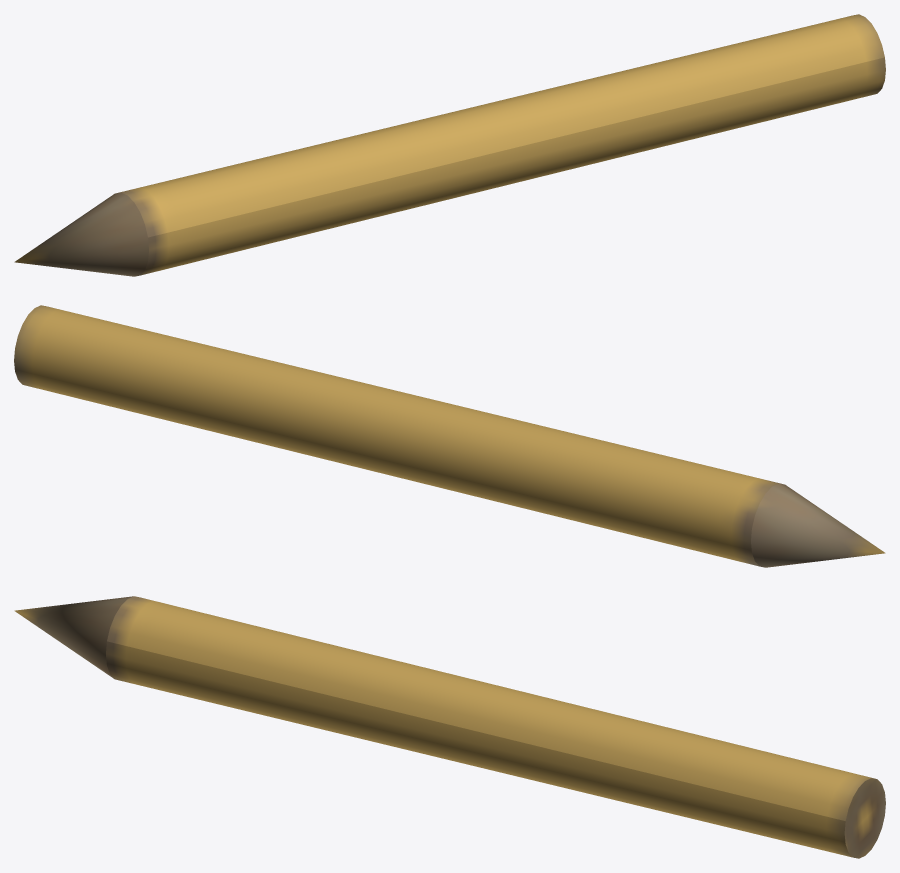
The model's file is SM_Farm_Pencil_06.fbx.
3 renders of one model, top to bottom at view 1: azimuth 30°, elevation 25°; view 2: azimuth 150°, elevation 25°; view 3: azimuth 330°, elevation 25°, orthographic.
Visible parts, largest first — view 1: SM_Farm_Pencil_06_LOD0; view 2: SM_Farm_Pencil_06_LOD0; view 3: SM_Farm_Pencil_06_LOD0.
Part boxes in pixels (bbox=[...]): SM_Farm_Pencil_06_LOD0: bbox=[14, 14, 885, 276]; SM_Farm_Pencil_06_LOD0: bbox=[14, 305, 885, 567]; SM_Farm_Pencil_06_LOD0: bbox=[14, 596, 885, 858].
Size of the model in its own units: 25.32 by 2.23 by 2.23.
